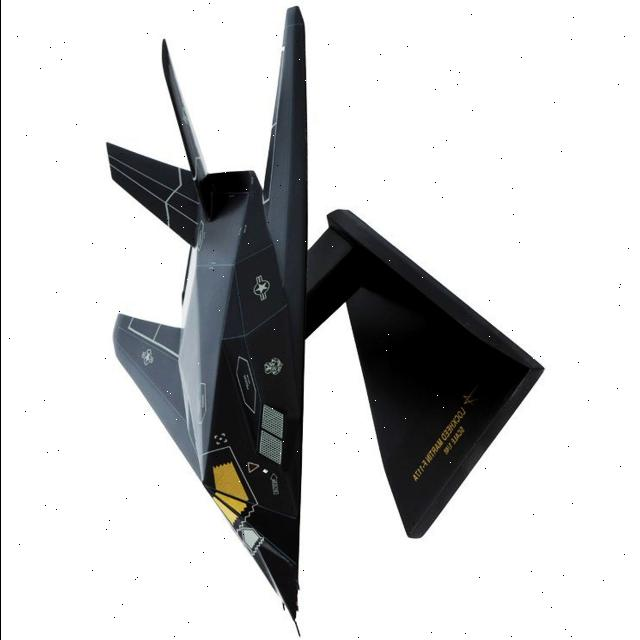F117: (62, 0, 366, 640)
